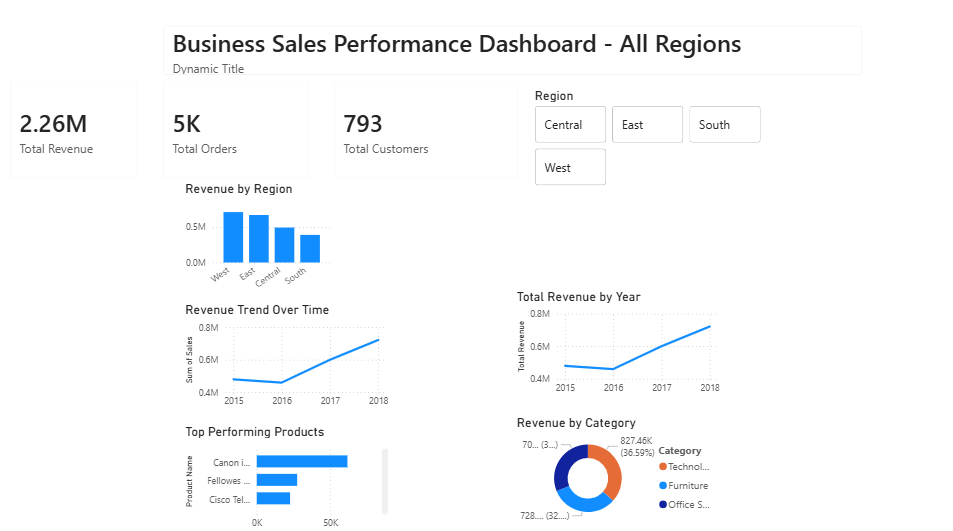

The dashboard page shown, as its layout file describes it:
{"tool":"powerbi","page":{"name":"Page 1","canvas":[1280,720],"ordinal":0},"visuals":[{"type":"cardVisual","fields":{"Data":["train.Total Revenue"]},"box":[0,97.1,204.3,161.4],"z":0},{"type":"cardVisual","fields":{"Data":["train.Total Orders"]},"box":[204.3,97.1,228.6,161.4],"z":1000},{"type":"cardVisual","fields":{"Data":["train.Total Customers"]},"box":[432.9,97.1,280,161.4],"z":2000},{"type":"lineChart","fields":{"Category":["train.Order Date.Variation.Date Hierarchy.Year","train.Order Date.Variation.Date Hierarchy.Quarter","train.Order Date.Variation.Date Hierarchy.Month","train.Order Date.Variation.Date Hierarchy.Day"],"Y":["train.Total Revenue"]},"box":[688,390,280,150],"z":3000},{"type":"lineChart","title":"Revenue Trend Over Time","fields":{"Category":["train.Order Date.Variation.Date Hierarchy.Year","train.Order Date.Variation.Date Hierarchy.Quarter","train.Order Date.Variation.Date Hierarchy.Month","train.Order Date.Variation.Date Hierarchy.Day"],"Y":["Sum(train.Sales)"]},"box":[246,408,280,150],"z":4000},{"type":"donutChart","title":"Revenue by Category","fields":{"Category":["train.Category"],"Y":["Sum(train.Sales)"]},"box":[688,558,280,150],"z":5000},{"type":"clusteredBarChart","title":"Top Performing Products","fields":{"Category":["train.Product Name"],"Y":["Sum(train.Sales)"]},"box":[246,570,280,150],"z":6000},{"type":"clusteredColumnChart","title":"Revenue by Region","fields":{"Category":["train.Region"],"Y":["Sum(train.Sales)"]},"box":[246,246,204,162],"z":7000},{"type":"advancedSlicerVisual","fields":{"Values":["train.Region"]},"box":[712.9,122.9,312.9,135.7],"z":8000},{"type":"cardVisual","fields":{"Data":["train.Dynamic Title"]},"box":[204,22,966,100],"z":9000}]}

Visuals, with their boxes in screenshot pixels (x1, y1, x2, y2), scaled from the page's 1280x720 canvas onto the 953x531 screenshot:
cardVisual - train.Total Revenue: 0:72:152:191
cardVisual - train.Total Orders: 152:72:322:191
cardVisual - train.Total Customers: 322:72:531:191
lineChart - train.Order Date.Variation.Date Hierarchy.Year x train.Order Date.Variation.Date Hierarchy.Quarter: 512:288:721:398
"Revenue Trend Over Time" lineChart: 183:301:392:412
"Revenue by Category" donutChart: 512:412:721:522
"Top Performing Products" clusteredBarChart: 183:420:392:530
"Revenue by Region" clusteredColumnChart: 183:181:335:301
advancedSlicerVisual - train.Region: 531:91:764:191
cardVisual - train.Dynamic Title: 152:16:871:90
